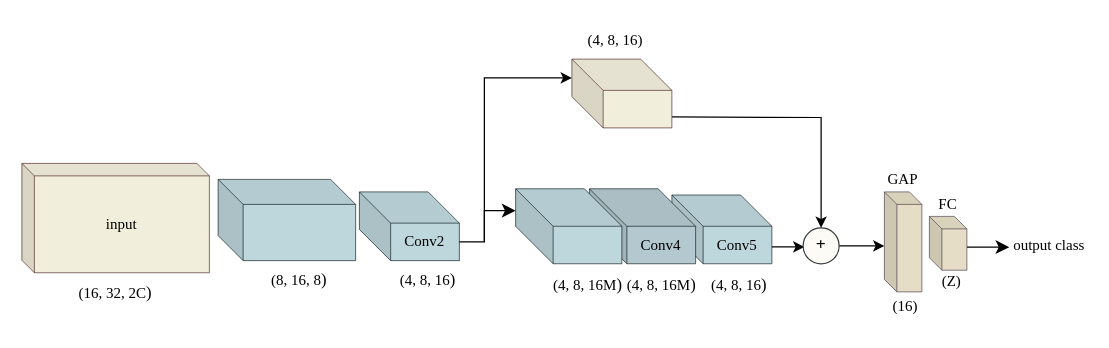
Some shapes in this 1109 by 348 pixel diagram are drawn without their labels. Each missing label, with the box of its shape:
Attention: (571, 58, 672, 128)
Conv1: (217, 178, 355, 260)
Conv3: (515, 188, 622, 264)
